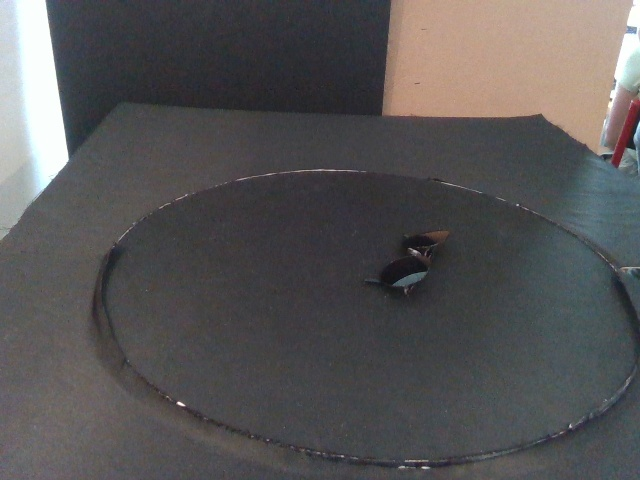glasses: (363, 227, 451, 299)
